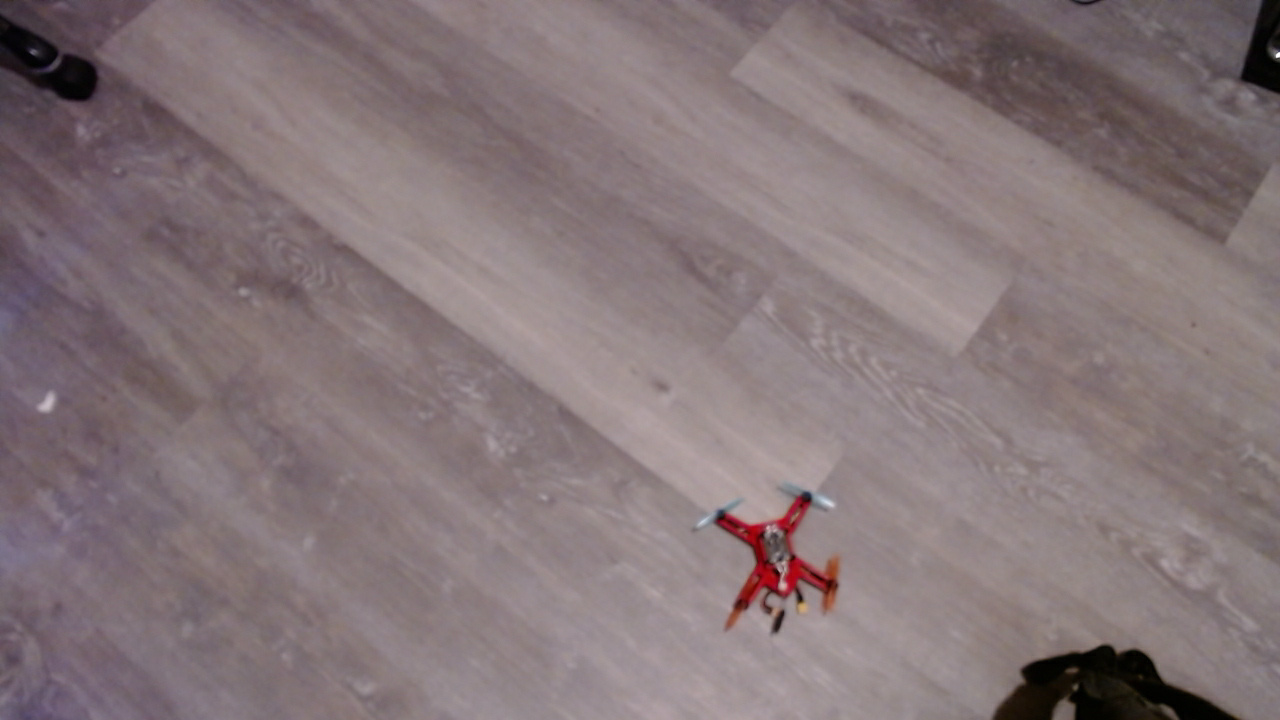crazyflie: (698, 481, 862, 638)
